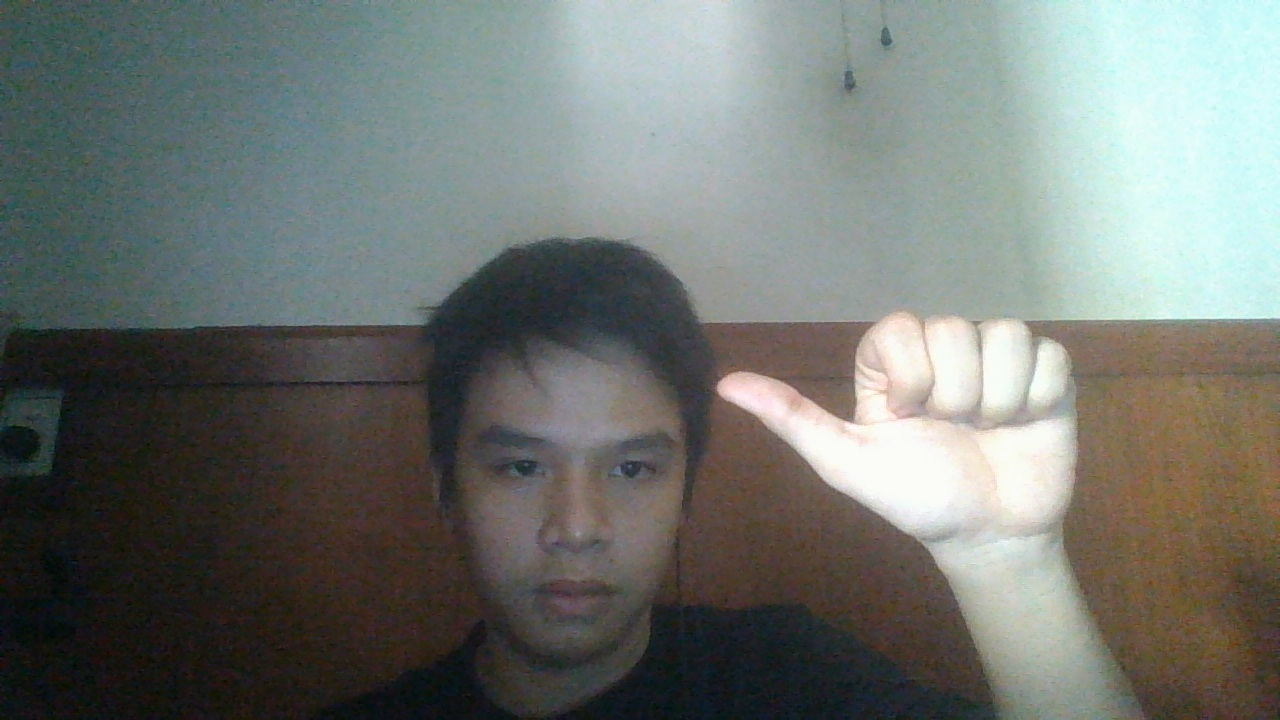back: (711, 312, 1086, 545)
